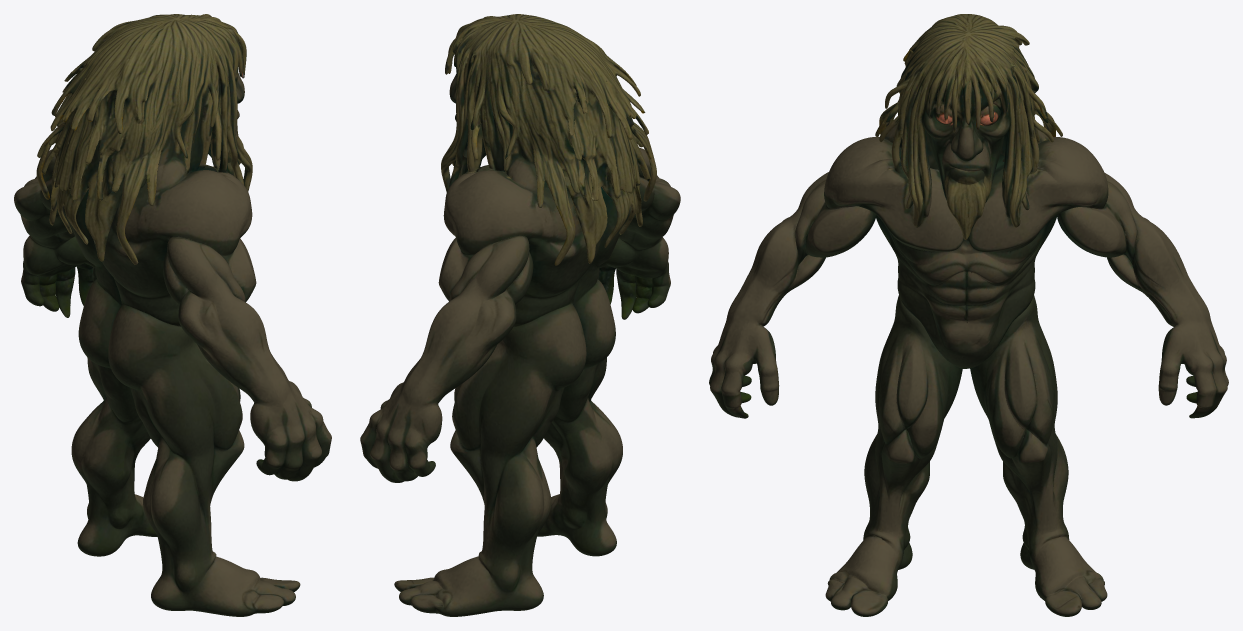
The model's file is KAPRE.fbx.
3 renders of one model, left to right at view 1: azimuth 30°, elevation 25°; view 2: azimuth 150°, elevation 25°; view 3: azimuth 270°, elevation 25°, orthographic.
Parts seen in each view (by area): view 1: tripo_node_c1e6b31e; view 2: tripo_node_c1e6b31e; view 3: tripo_node_c1e6b31e.
Part boxes in pixels (bbox=[...]): tripo_node_c1e6b31e: bbox=[14, 14, 331, 616]; tripo_node_c1e6b31e: bbox=[360, 14, 680, 616]; tripo_node_c1e6b31e: bbox=[709, 14, 1228, 616].
Size of the model in its own units: 36.06 by 100 by 84.91.
1 material, 1 textured.
